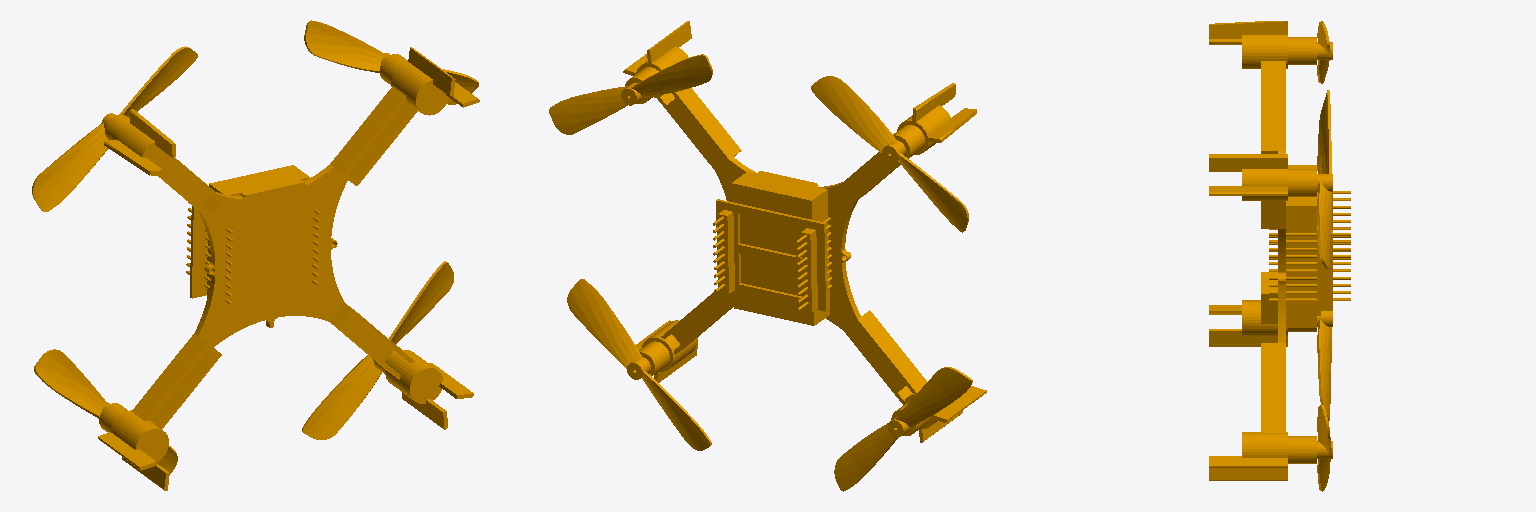
URDF robot description (cf2):
<?xml version="1.0" ?>

<robot name="cf2">

  <properties arm="0.0397" kf="3.16e-10" km="7.94e-12" thrust2weight="2.25" max_speed_kmh="30" gnd_eff_coeff="11.36859" prop_radius="2.31348e-2" drag_coeff_xy="9.1785e-7" drag_coeff_z="10.311e-7" dw_coeff_1="2267.18" dw_coeff_2=".16" dw_coeff_3="-.11" />

  <link name="base_link"> 

    <inertial>
      <origin rpy="0 0 0" xyz="0 0 0"/>
      <mass value="0.027"/>
      <inertia ixx="1.4e-5" ixy="0.0" ixz="0.0" iyy="1.4e-5" iyz="0.0" izz="2.17e-5"/>
    </inertial>

    <!-- links>
      <carlos url="https://arxiv.org/pdf/1608.05786.pdf" />
      <julian url="https://www.research-collection.ethz.ch/handle/20.500.11850/214143" />
      <mit url="http://groups.csail.mit.edu/robotics-center/public_papers/Landry15.pdf" />
    </links -->

    <visual>
      <origin rpy="0 55 0" xyz="0 0 0"/>
      <geometry>
        <mesh filename="./cf2.obj" scale=" 1 1 1"/>
      </geometry> 
      <material name="texture_material">
        <texture filename="./cf2/cf2.mtl" />
      </material>

    </visual>

    <collision>
      <origin rpy="0 0 0" xyz="0 0 0"/>
      <geometry>
        <cylinder radius=".06" length=".025"/>
      </geometry>
    </collision>  

    <link name="camera_link">
      <inertial>
          <origin xyz="0 0 0" rpy="0 0.5 0"/>
          <mass value="0.001"/>
          <inertia ixx="0.0" ixy="0.0" ixz="0.0" iyy="0.0" iyz="0.0" izz="0.0"/>
      </inertial>
      <visual>
          <origin xyz="0 0 0" rpy="0 0.5 0"/>
          <geometry>
              <box size="0.01 0.01 0.01"/>
          </geometry>
          <material name="camera_material"/>
      </visual>
      <collision>
          <origin xyz="0 0 0" rpy="0 0.5 0"/>
          <geometry>
              <box size="0.01 0.01 0.01"/>
          </geometry>
      </collision>
    </link>

  </link>

  <link name="prop0_link">
    <inertial>
      <origin rpy="0 0 0" xyz="0.028 -0.028 0"/>
      <mass value="0"/>
      <inertia ixx="0" ixy="0" ixz="0" iyy="0" iyz="0" izz="0"/>
    </inertial>
  </link>
  <joint name="prop0_joint" type="continuous">
    <parent link="base_link"/>
    <child link="prop0_link"/>
  </joint>

  <link name="prop1_link">
    <inertial>
      <origin rpy="0 0 0" xyz="-0.028 -0.028 0"/>
      <mass value="0"/>
      <inertia ixx="0" ixy="0" ixz="0" iyy="0" iyz="0" izz="0"/>
    </inertial>
  </link>
  <joint name="prop1_joint" type="continuous">
    <parent link="base_link"/>
    <child link="prop1_link"/>
  </joint>

  <link name="prop2_link">
    <inertial>
      <origin rpy="0 0 0" xyz="-0.028 0.028 0"/>
      <mass value="0"/>
      <inertia ixx="0" ixy="0" ixz="0" iyy="0" iyz="0" izz="0"/>
    </inertial>
  </link>
  <joint name="prop2_joint" type="continuous">
    <parent link="base_link"/>
    <child link="prop2_link"/>
  </joint>

  <link name="prop3_link">
    <inertial>
      <origin rpy="0 0 0" xyz="0.028 0.028 0"/>
      <mass value="0"/>
      <inertia ixx="0" ixy="0" ixz="0" iyy="0" iyz="0" izz="0"/>
    </inertial>
  </link>
  <joint name="prop3_joint" type="continuous">
    <parent link="base_link"/>
    <child link="prop3_link"/>
  </joint>

  <link name="center_of_mass_link">
    <inertial>
      <origin rpy="0 0 0" xyz="0 0 0"/>
      <mass value="0"/>
      <inertia ixx="0" ixy="0" ixz="0" iyy="0" iyz="0" izz="0"/>
    </inertial>
  </link>
  <joint name="center_of_mass_joint" type="continuous">
    <parent link="base_link"/>
    <child link="center_of_mass_link"/>
  </joint>

</robot>

--- Render facts (derived) ---
Views: 3 orthographic renders of the robot side by side, from view 1: azimuth 30°, elevation 25°; view 2: azimuth 150°, elevation 25°; view 3: azimuth 270°, elevation 25°.
Model cf2 with 6 links and 5 joints (5 continuous), rooted at base_link, posed every joint at zero.
Visible links, largest first — view 1: base_link; view 2: base_link; view 3: base_link.
Boxes of the visible links, x1,y1,x2,y2 form: base_link: [32, 20, 479, 490]; base_link: [549, 21, 986, 491]; base_link: [1209, 21, 1350, 491].
Bounding box of the posed robot: 0.1058 × 0.031 × 0.0979 m (x, y, z).
Meshes: 1 distinct files referenced, 1 mesh visuals loaded (1 OBJ).
